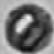correct: (5, 3, 52, 53)
